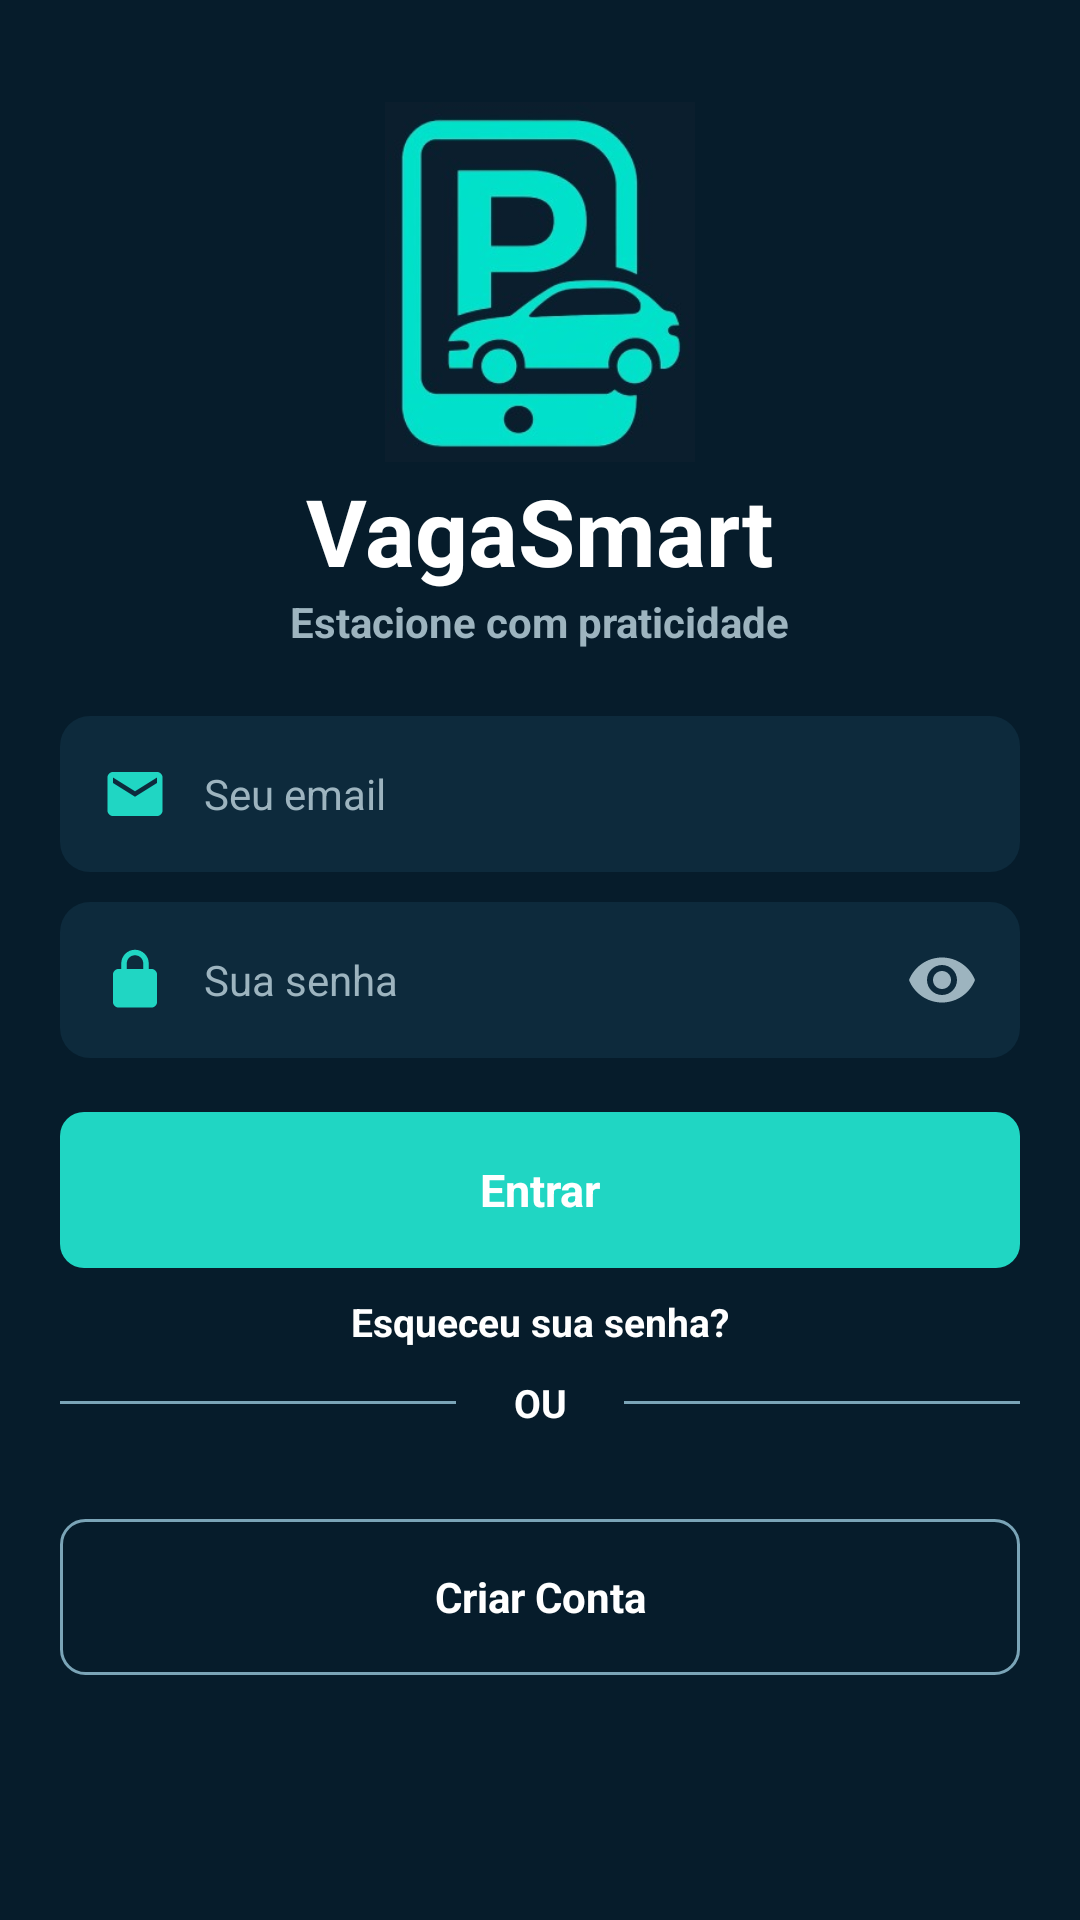

Point at icon controls on the screen. Image size 1080 x 1920, points as [x,y].
lock: [135,978]
Mostrar senha: [942,980]
